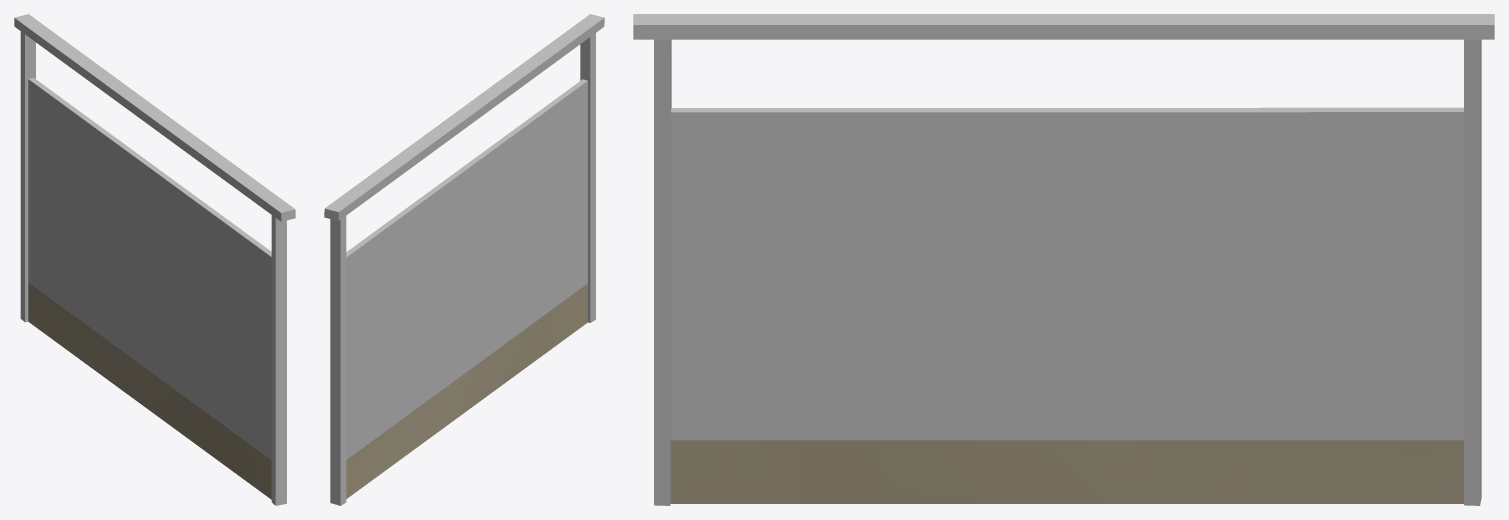
File: ms_mobStruct01wa.fbx
3 renders of one model, left to right at view 1: azimuth 30°, elevation 25°; view 2: azimuth 150°, elevation 25°; view 3: azimuth 270°, elevation 25°, orthographic. The views are drawn at different scales.
Parts seen in each view (by area): view 1: ms_mobStruct01wa; view 2: ms_mobStruct01wa; view 3: ms_mobStruct01wa.
Boxes of the visible parts, <box> form: ms_mobStruct01wa: <box>14,14,295,505</box>; ms_mobStruct01wa: <box>324,14,604,505</box>; ms_mobStruct01wa: <box>633,14,1494,505</box>.
Size of the model in its own units: 0.0692 by 1.36 by 2.2.
